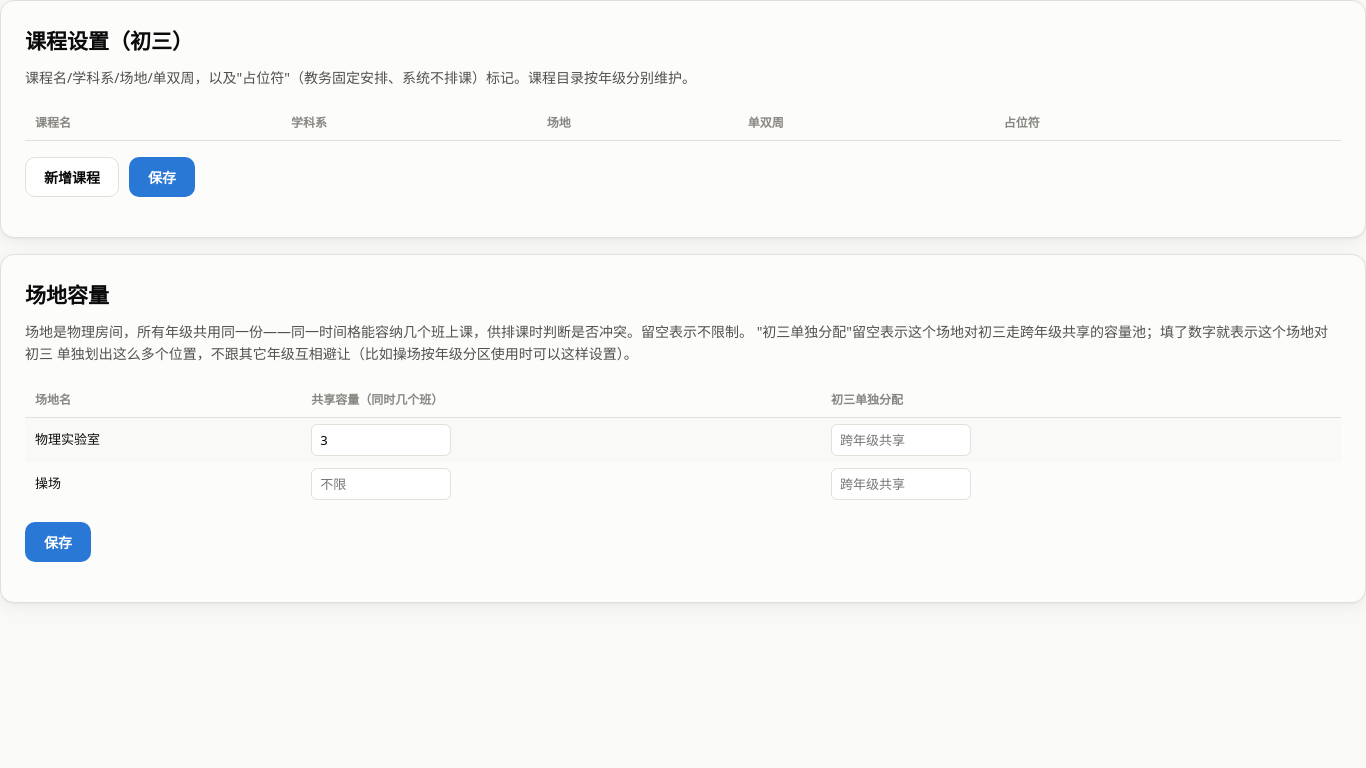
Test: CourseSettings › loads and saves venue capacities independently of the course catalog
The width and height of the screenshot is (1366, 768).
Expected: the number field with test id "venue-capacity" is empty, x1=311 y1=468 x2=451 y2=500
Replace the text in the 1st number field with test id "venue-capacity" with "4" at (381, 440), box x1=311 y1=424 x2=451 y2=456
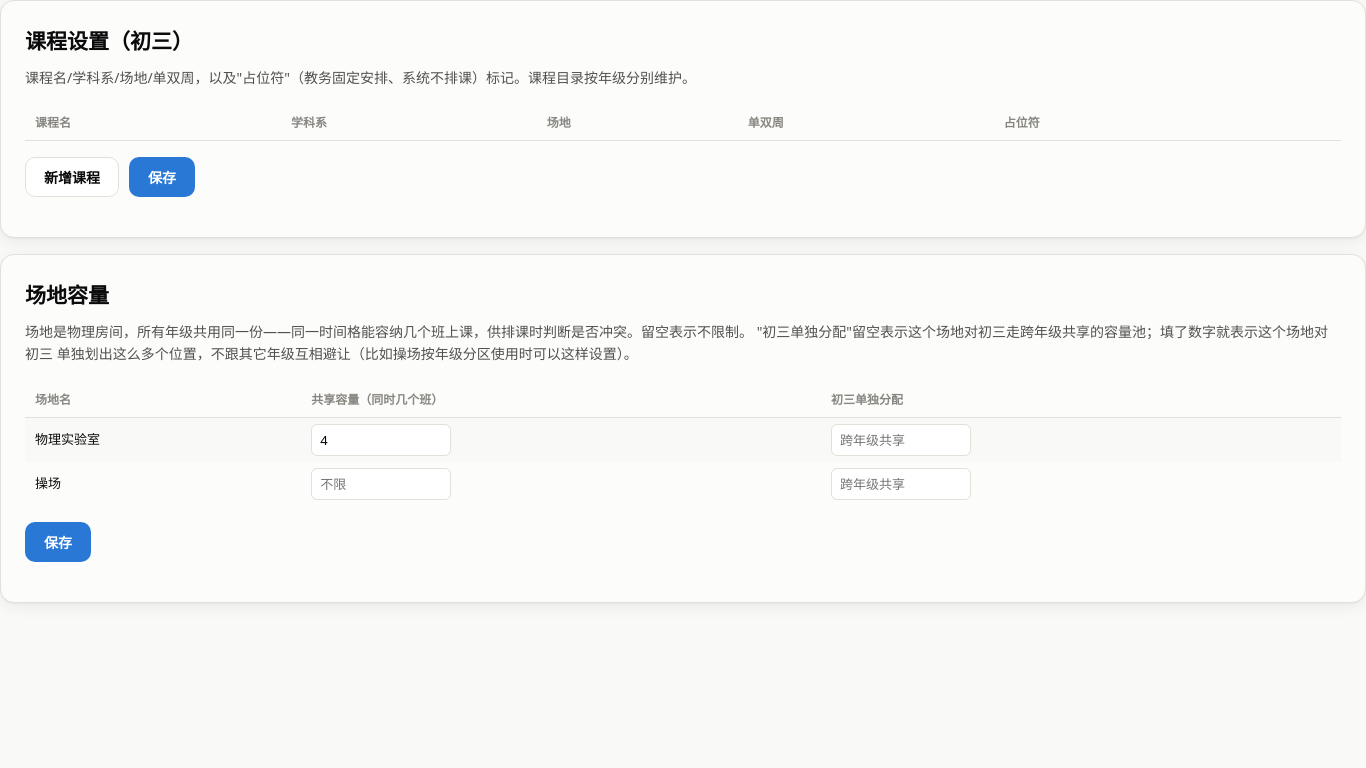
Click the button with test id "save-venues-button".
click(58, 542)  # box x1=25 y1=522 x2=91 y2=562
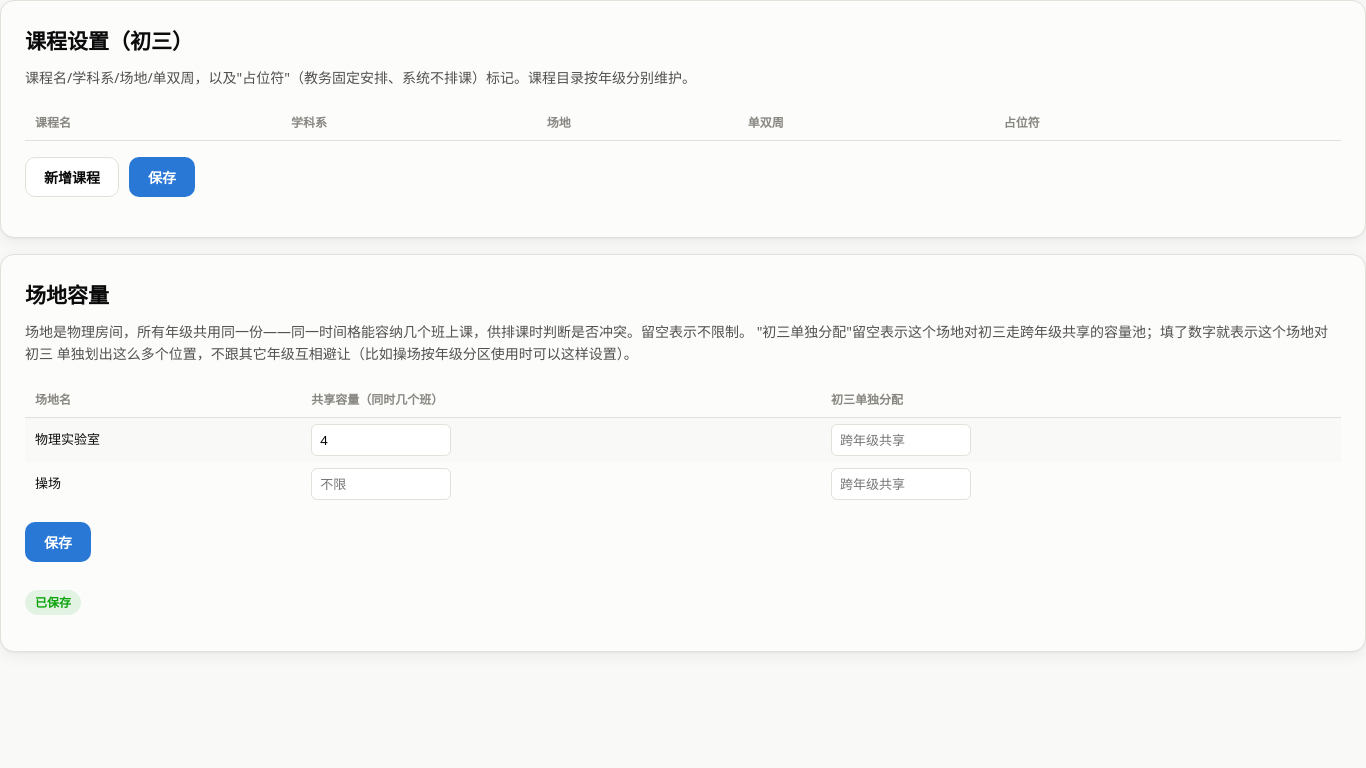
Now the text with test id "venue-notice" reads "已保存", box x1=35 y1=594 x2=71 y2=611
